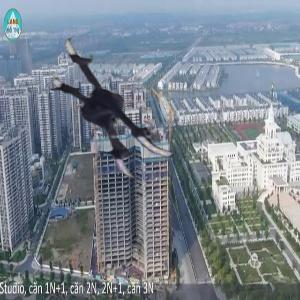drone: (42, 26, 197, 181)
